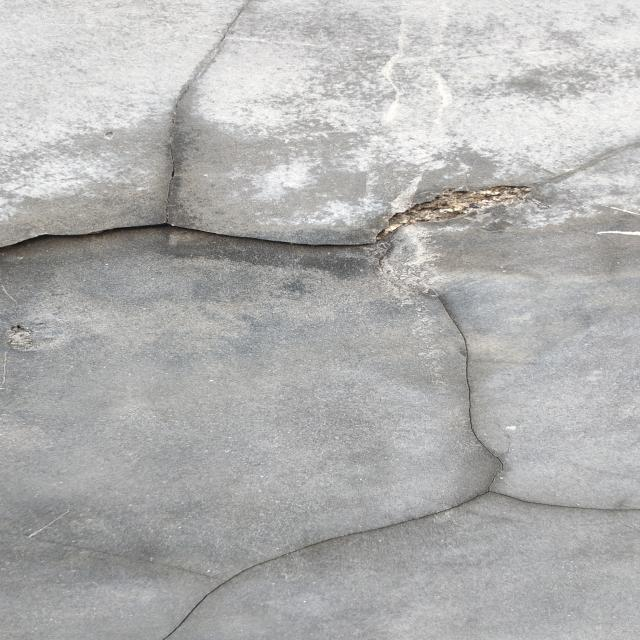Crack: (81, 285, 640, 635), (15, 184, 640, 256)
